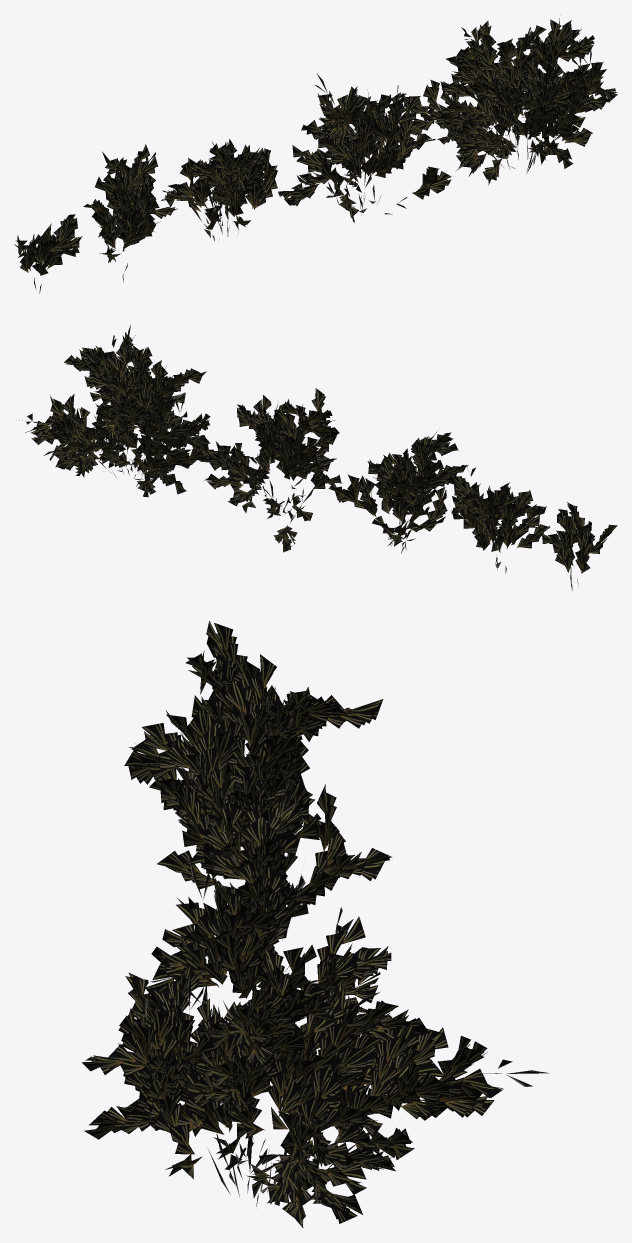
Rendered from bush.glb.
3 renders of one model, top to bottom at view 1: azimuth 30°, elevation 25°; view 2: azimuth 150°, elevation 25°; view 3: azimuth 270°, elevation 25°, orthographic. The views are drawn at different scales.
Parts seen in each view (by area): view 1: wild_rooibos_bush_a; view 2: wild_rooibos_bush_a; view 3: wild_rooibos_bush_a.
Part boxes in pixels (bbox=[...]): wild_rooibos_bush_a: bbox=[14, 18, 617, 293]; wild_rooibos_bush_a: bbox=[19, 325, 617, 590]; wild_rooibos_bush_a: bbox=[82, 621, 549, 1227].
Size of the model in its own units: 2.27 by 0.533 by 0.8255.
Materials: 2 (2 with a texture image).
